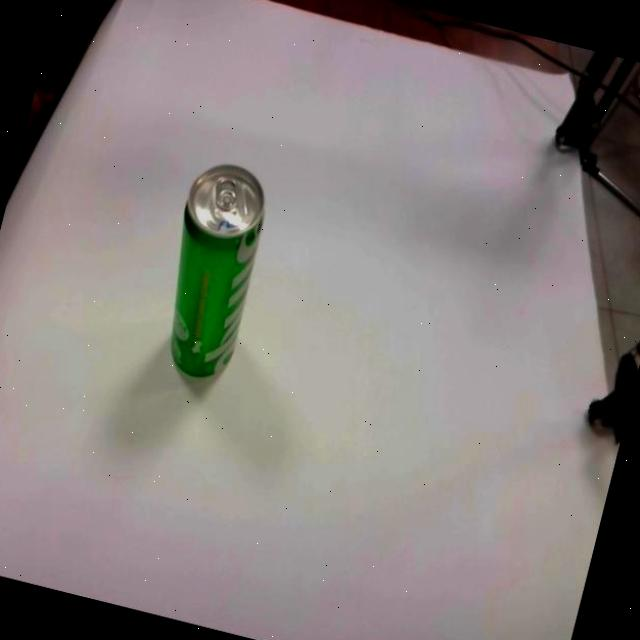debris: (142, 154, 276, 386)
